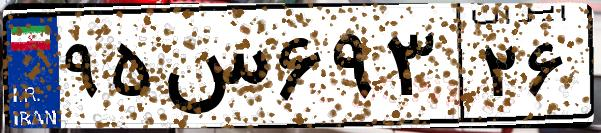2: (475, 38, 525, 113)
3: (385, 28, 445, 110)
5: (110, 28, 158, 98)
6: (270, 28, 330, 110), (525, 38, 570, 115)
9: (330, 28, 385, 110), (57, 26, 110, 100)
س: (158, 20, 270, 120)
